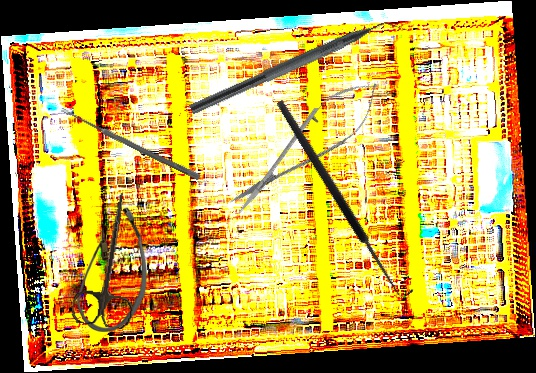Cannula: (75, 206, 149, 333)
Chopper: (188, 8, 408, 130)
Hook Surgical: (274, 93, 416, 302)
Iris Scissors: (70, 187, 149, 331)
Micro Scissor: (217, 66, 393, 227)
Surgical Spoon: (60, 106, 201, 181)
